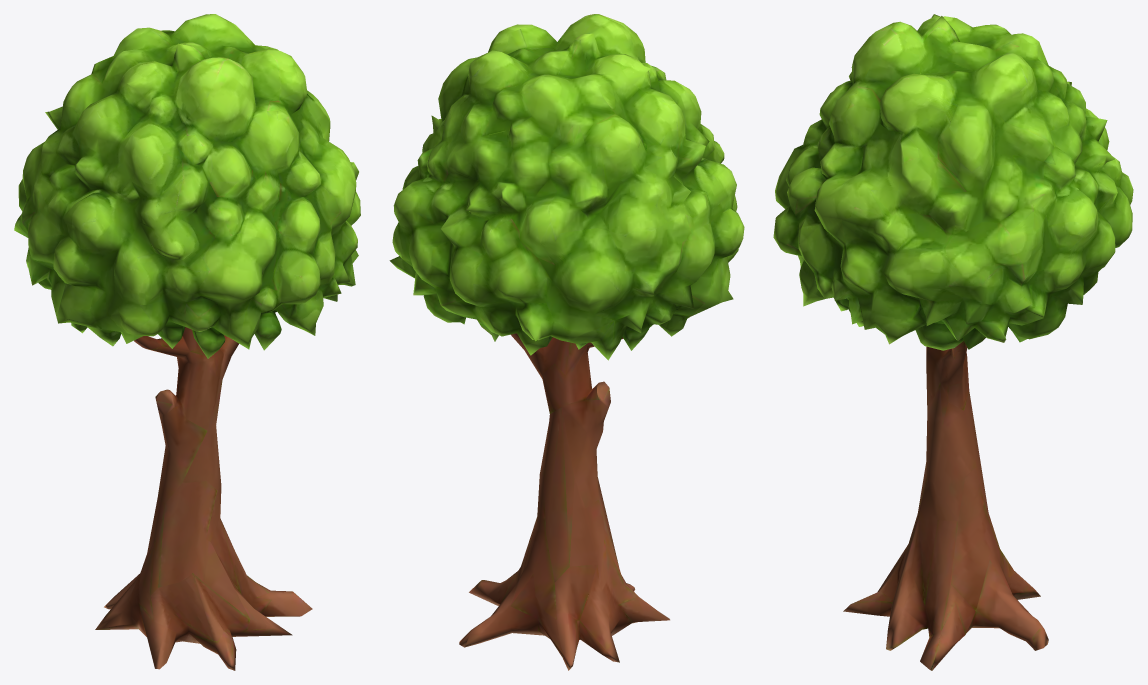
Rendered from tree.glb.
The picture shows the model from 3 angles, left to right: view 1: azimuth 30°, elevation 25°; view 2: azimuth 150°, elevation 25°; view 3: azimuth 270°, elevation 25°; orthographic projection.
Bounding box in the file's own units: 1.01 × 1.9 × 1.04.
1 material, 1 textured.
